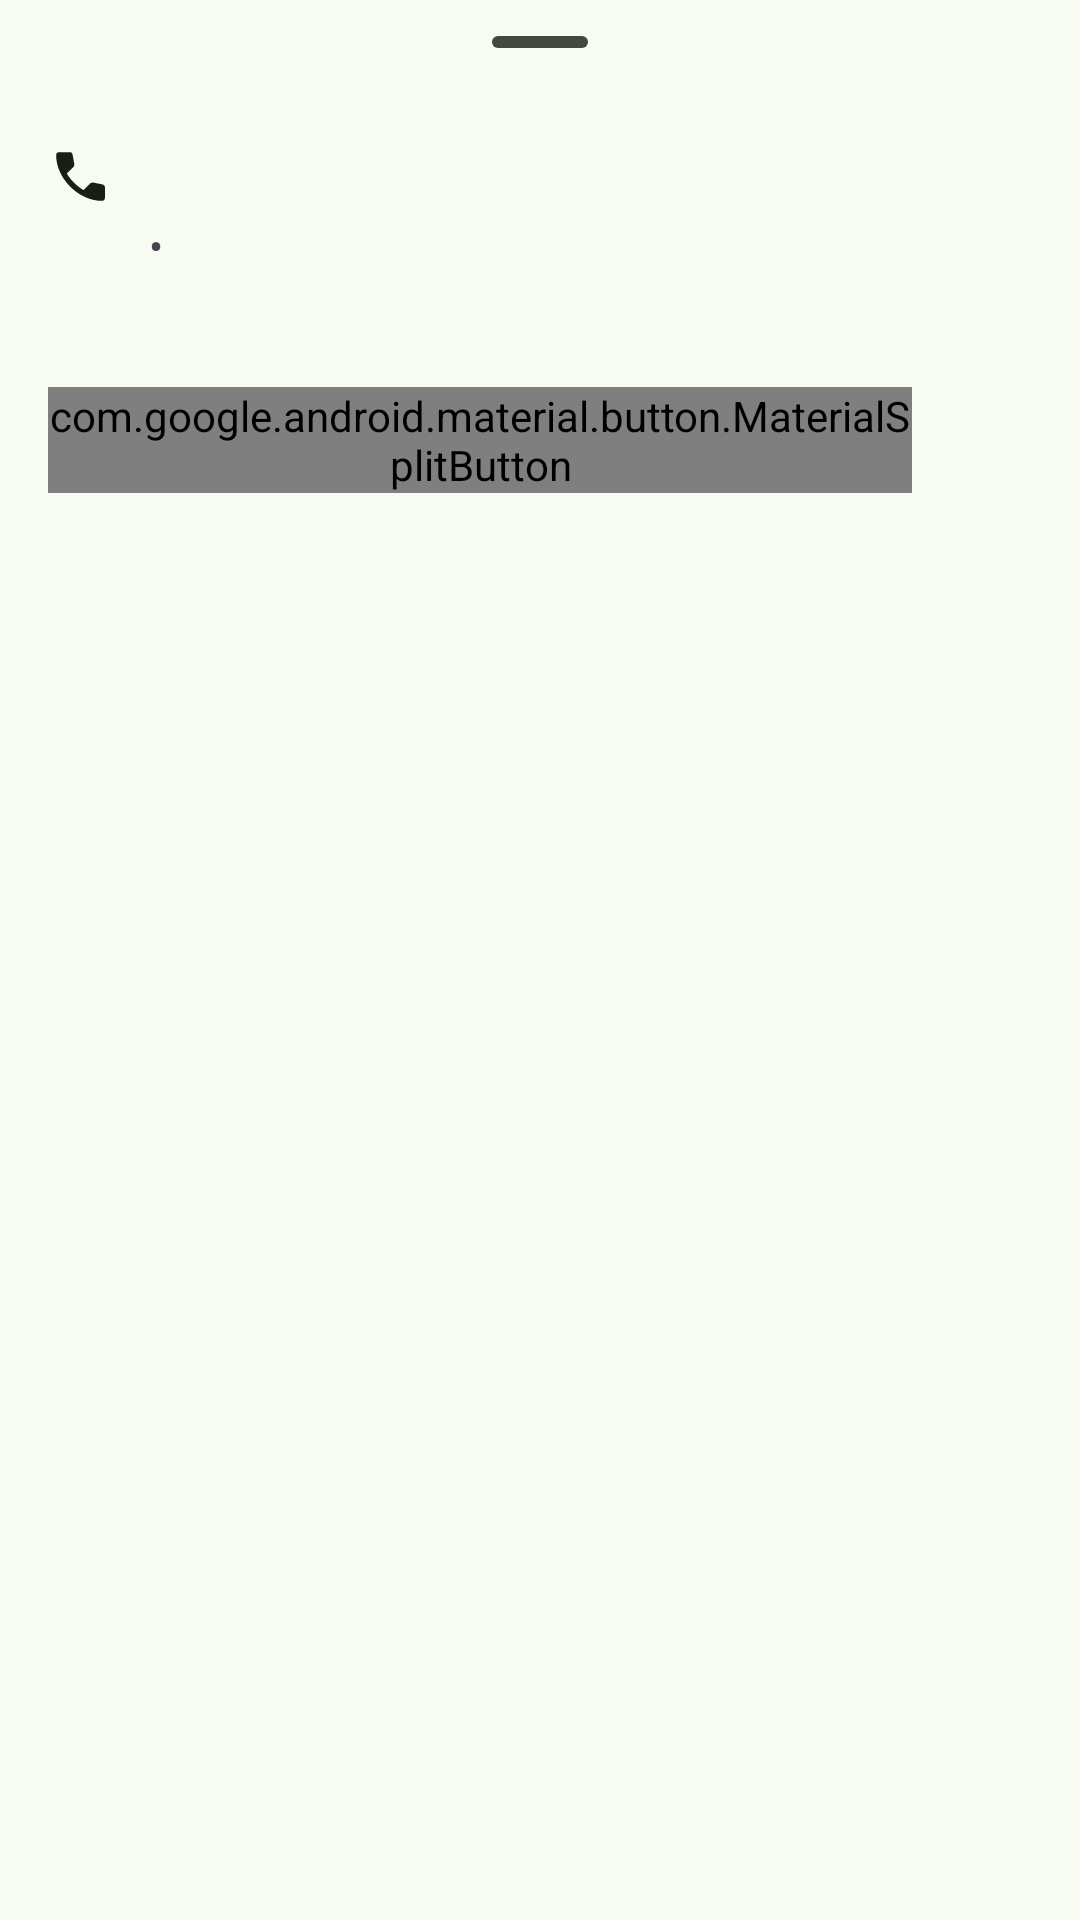

Where icons sit on this 1080x1920 app screen, as box=[x1, y1, x2, y2]:
call: box=[56, 152, 105, 201]
